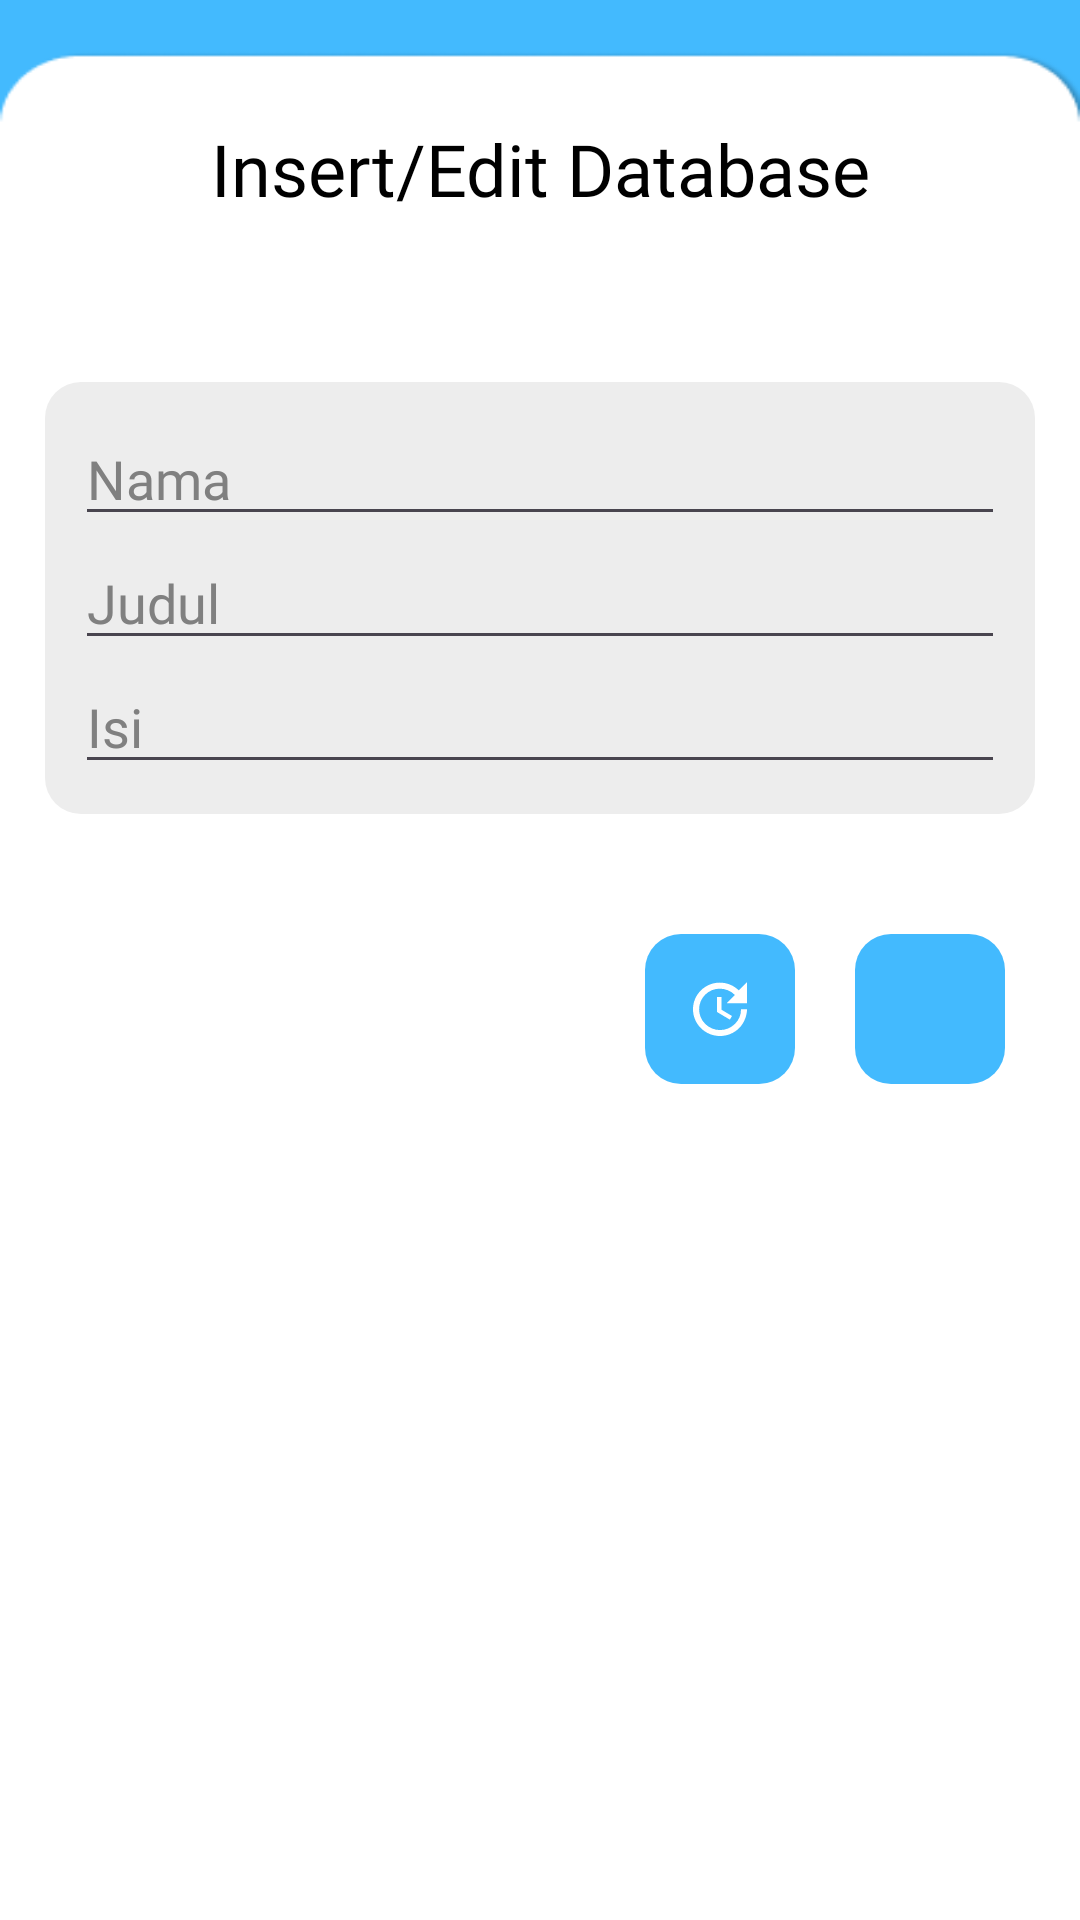

Named icons in this screenshot (1080px×1920px) and their bounding boxes, BBox(x1, y1, x2, y2):
update: BBox(645, 934, 795, 1084)
